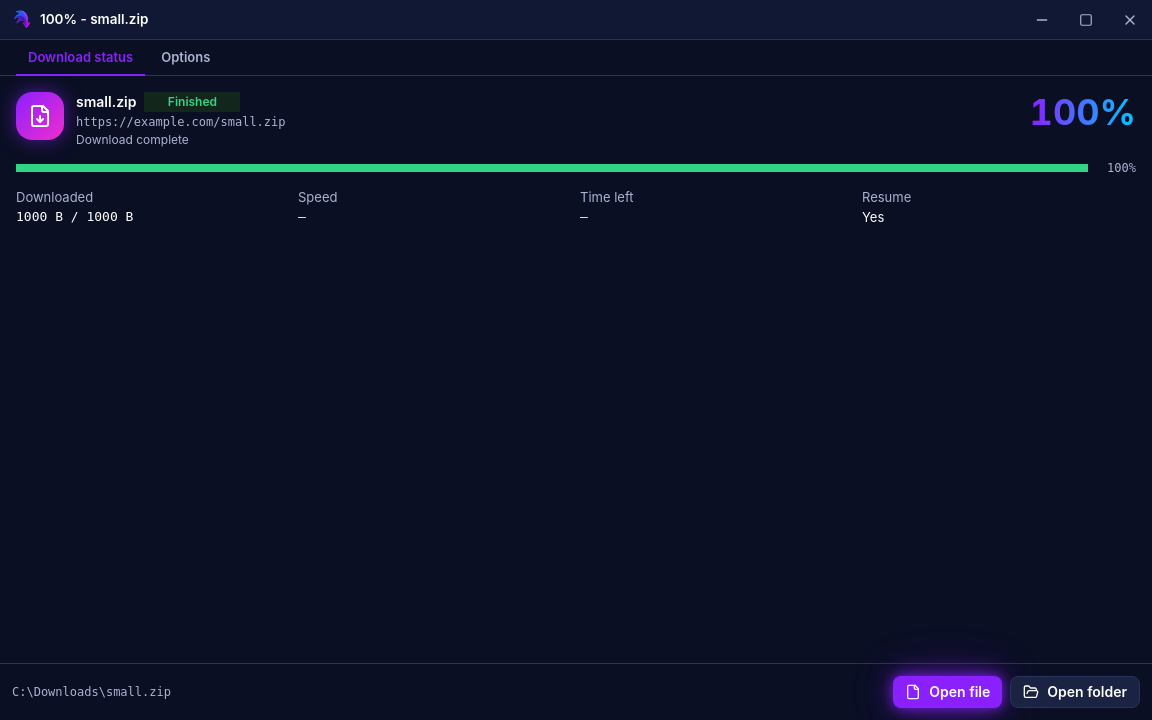
Test case: completion options on an already-finished download (Round 87.5) › Cancel on the countdown clears it and unchecks the option
Click the tab "Options". click: (186, 58)
box: [149, 40, 222, 76]
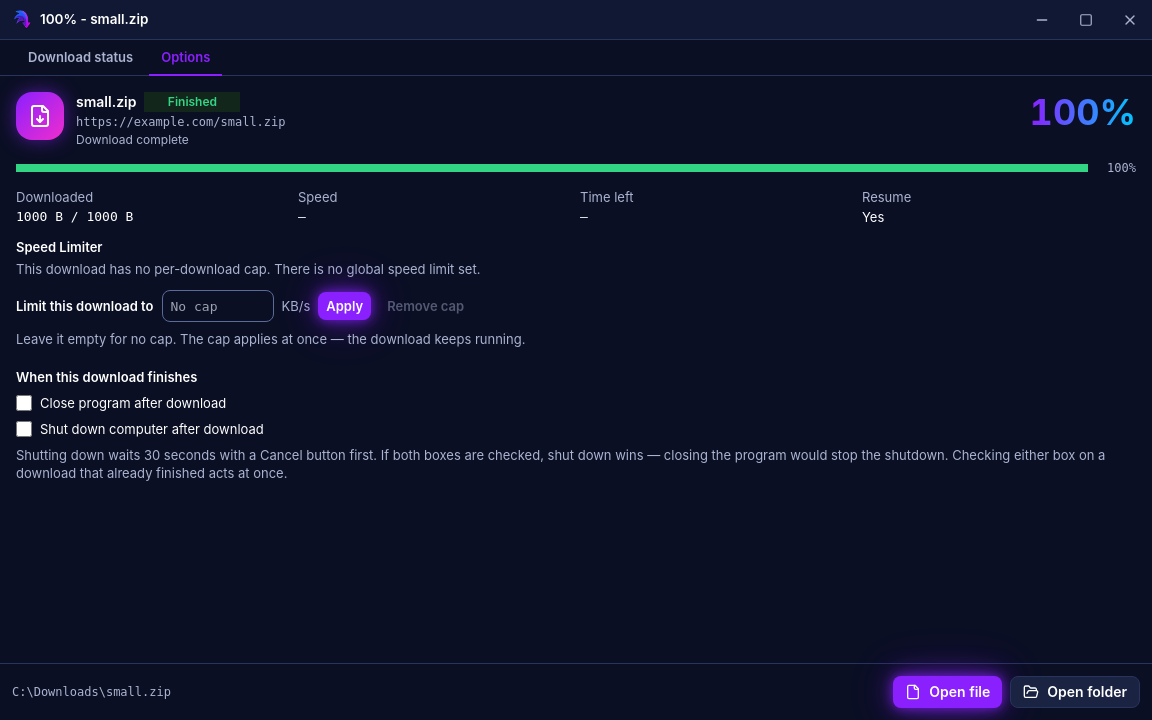
Click the checkbox labelled "Shut down computer after download". click: (24, 429)
box: [16, 421, 32, 437]
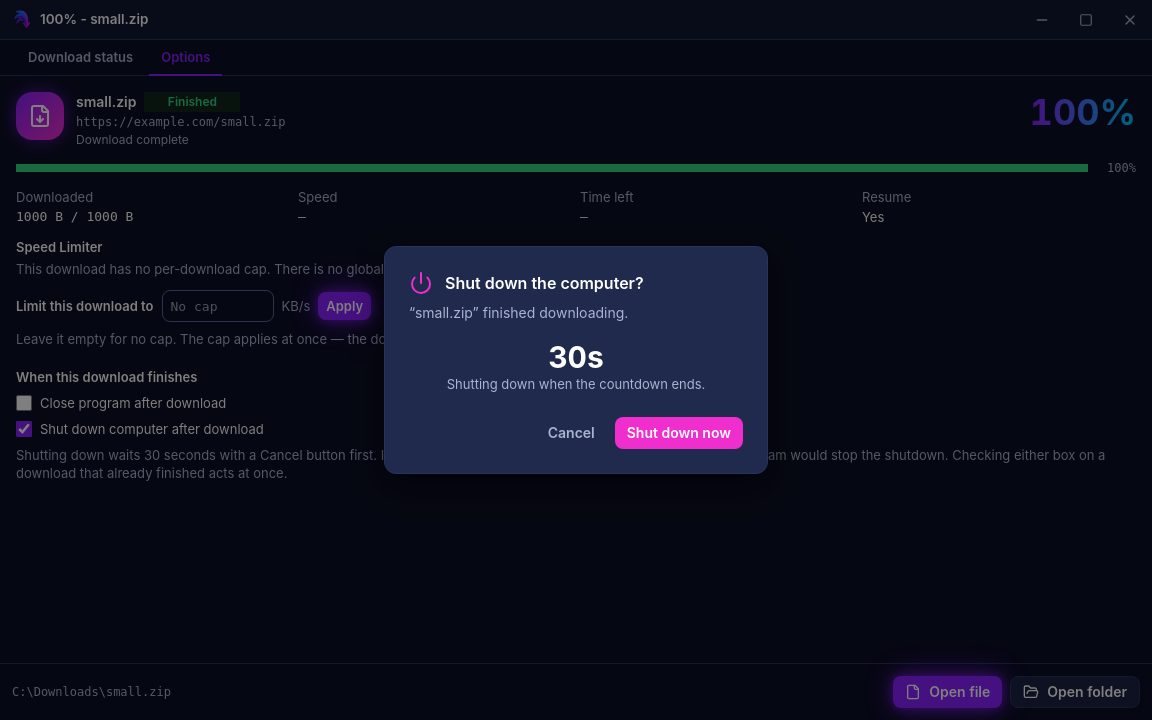
Check: the dialog is shown
Click the button "Cancel". click: (571, 433)
box: [536, 417, 607, 449]
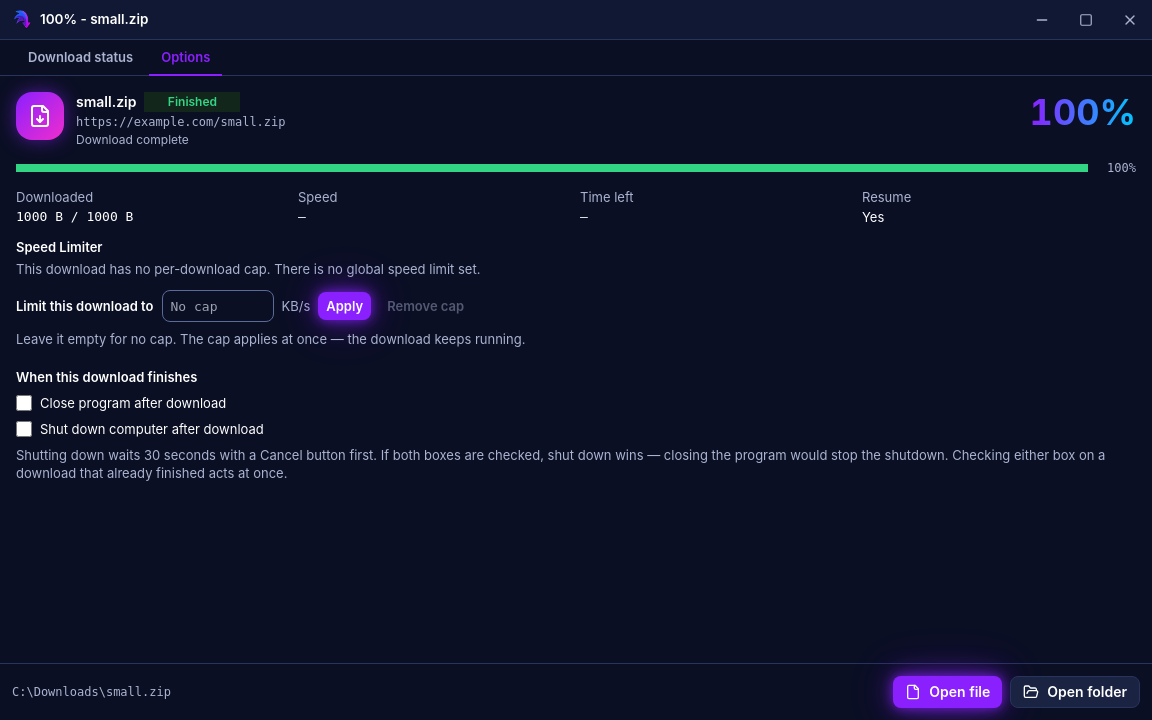
Check: the checkbox labelled "Shut down computer after download" is not checked, box [16, 421, 32, 437]
Check: the dialog is gone
